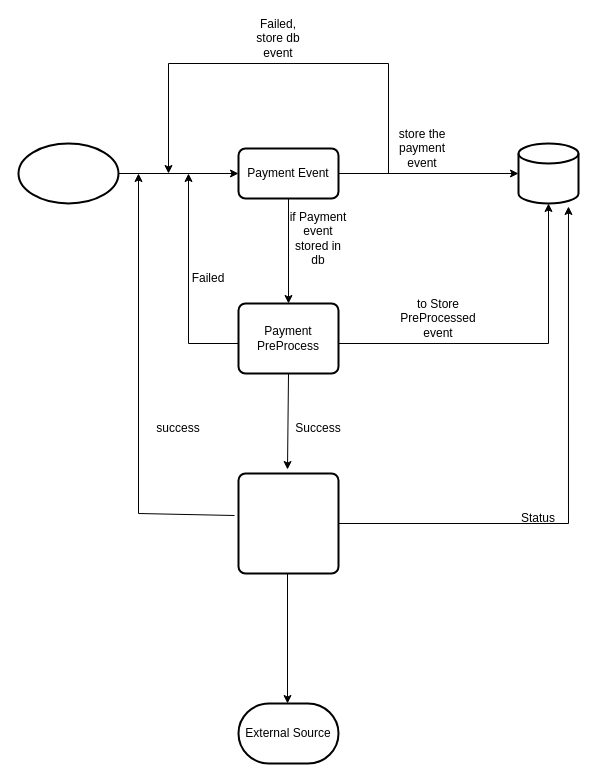
Some shapes in this 596 by 782 pixel diagram are drawn without their labels. Here are the shapes that lost their labels. From the top down, the box of each, then its label:
(17, 142, 119, 204): Payment Data
(237, 472, 339, 574): Registration event
